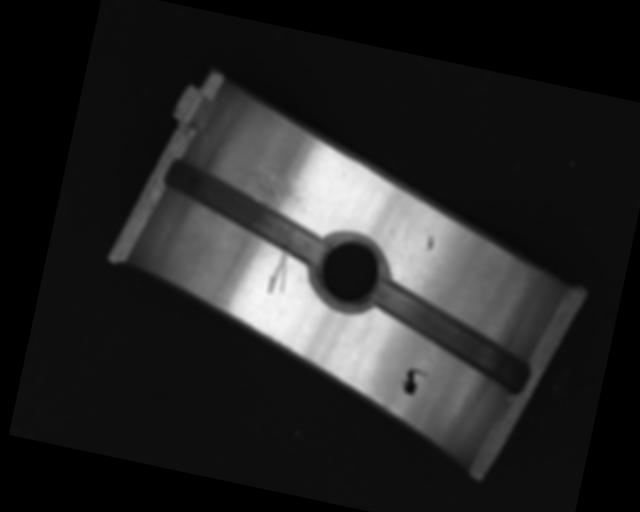blot: (399, 366, 428, 398)
bruise: (424, 233, 435, 253)
gap: (359, 278, 542, 394), (154, 158, 335, 266)
hole: (304, 227, 395, 317)
nick: (265, 247, 292, 297)
scratch: (213, 142, 324, 217)
